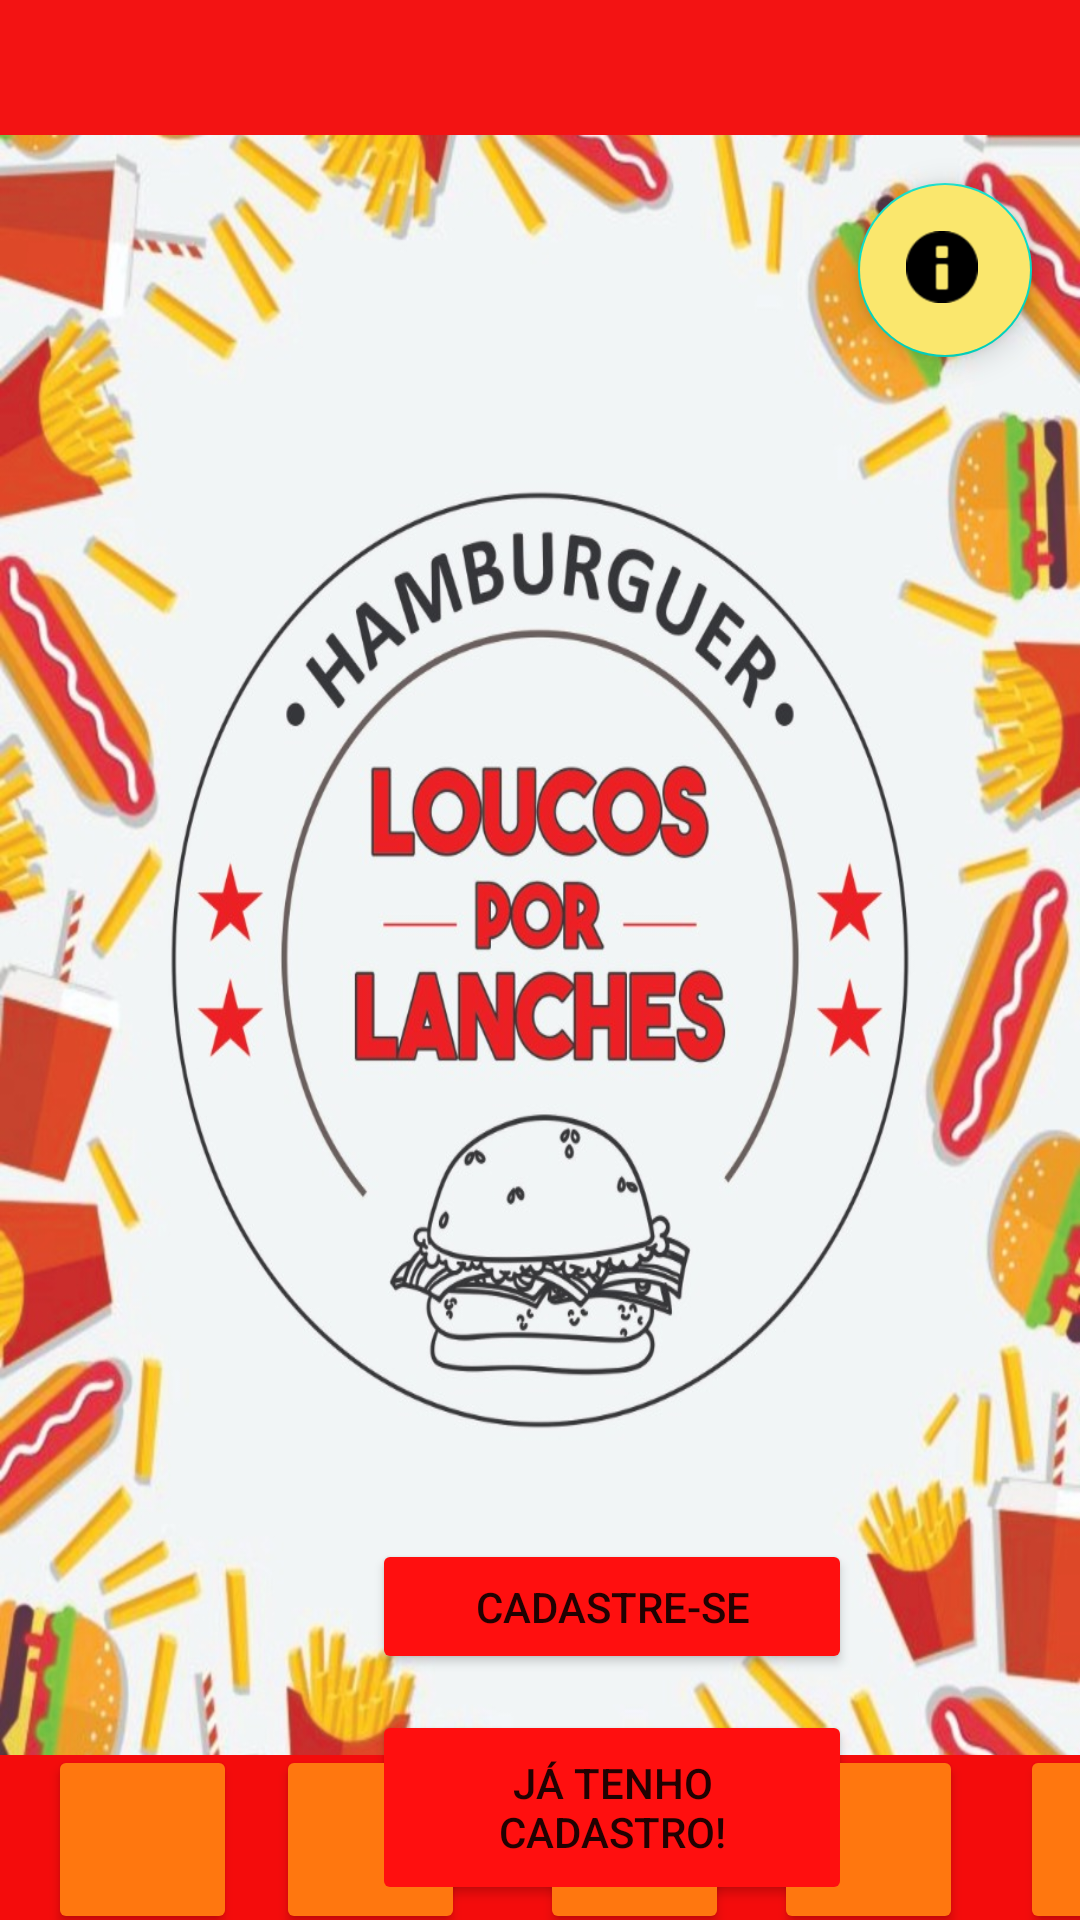

Where to tap for icons on this 1080w x 1920h app screen, as (x,y):
info: (945,270)
